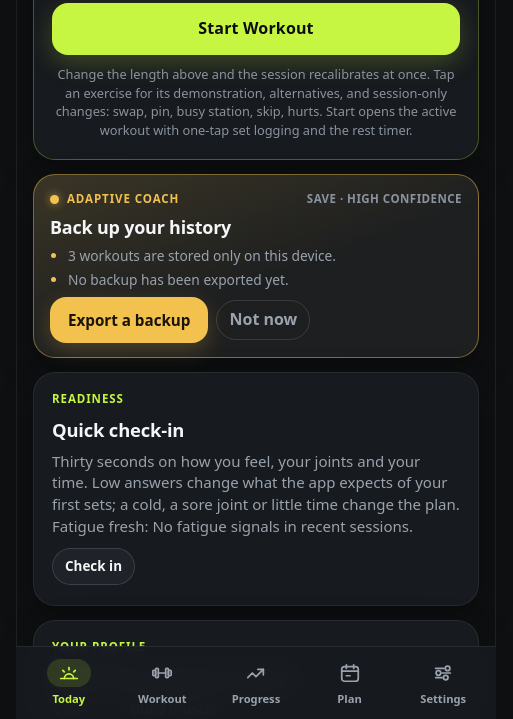
Test: the coach’s backup card (Maintenance 25) › takes Export a backup straight to Export and import, open
The width and height of the screenshot is (513, 719).
(page scrolled)
Expected: the heading with test id "coach-headline" reads "Back up your history", [50,215,231,239]
Step 1. Click the button with test id "coach-action" → click(129, 320), box [50,297,208,343]
(page scrolled)
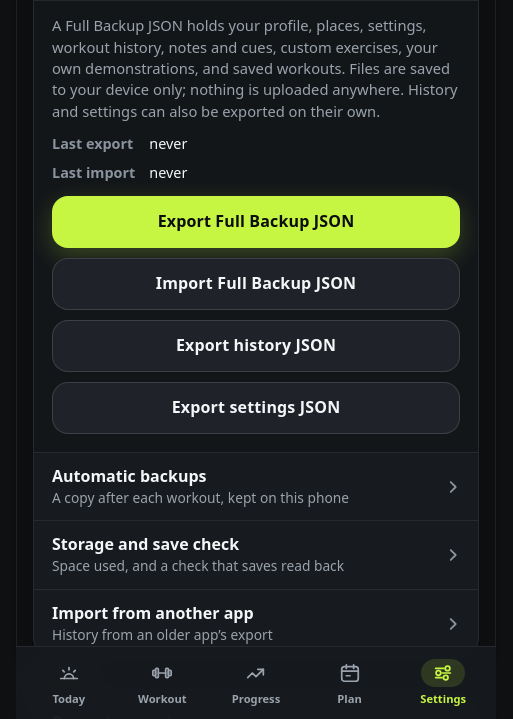
Expected: the button "Export Full Backup JSON" is shown, [52,196,460,248]
